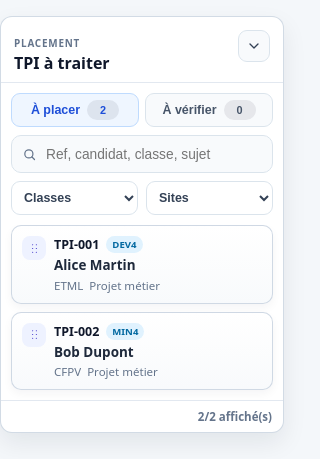
it: TpiAssignmentPanel › filtre les TPI à placer par recherche, classe et site
Check: the list named "TPI non attribués" shows "TPI-001", box [54,236,99,253]
Check: the list named "TPI non attribués" shows "TPI-002", box [54,323,99,340]
Step 1. Type "alice" into the search field named "Rechercher un TPI" → (142, 154), box [11,135,273,173]
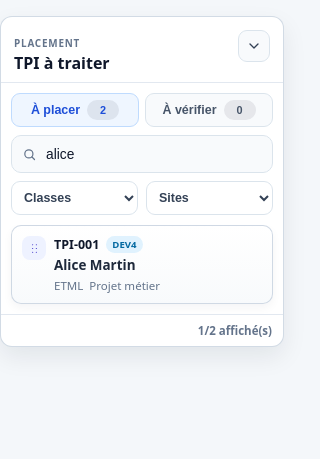
Check: the list named "TPI non attribués" shows "TPI-001", box [54,236,99,253]
Check: the text "TPI-002" is gone
Step 2. Select "MIN4" in the dropdown named "Filtrer par classe" → (74, 198), box [11,181,138,215]
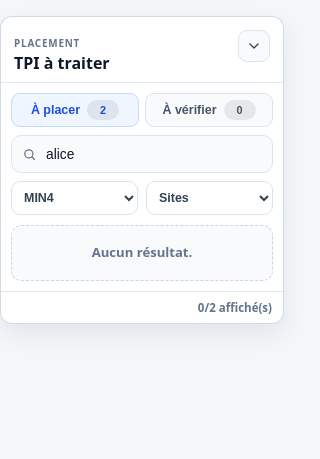
Check: the text "Aucun résultat." is shown, box [11,225,273,281]
